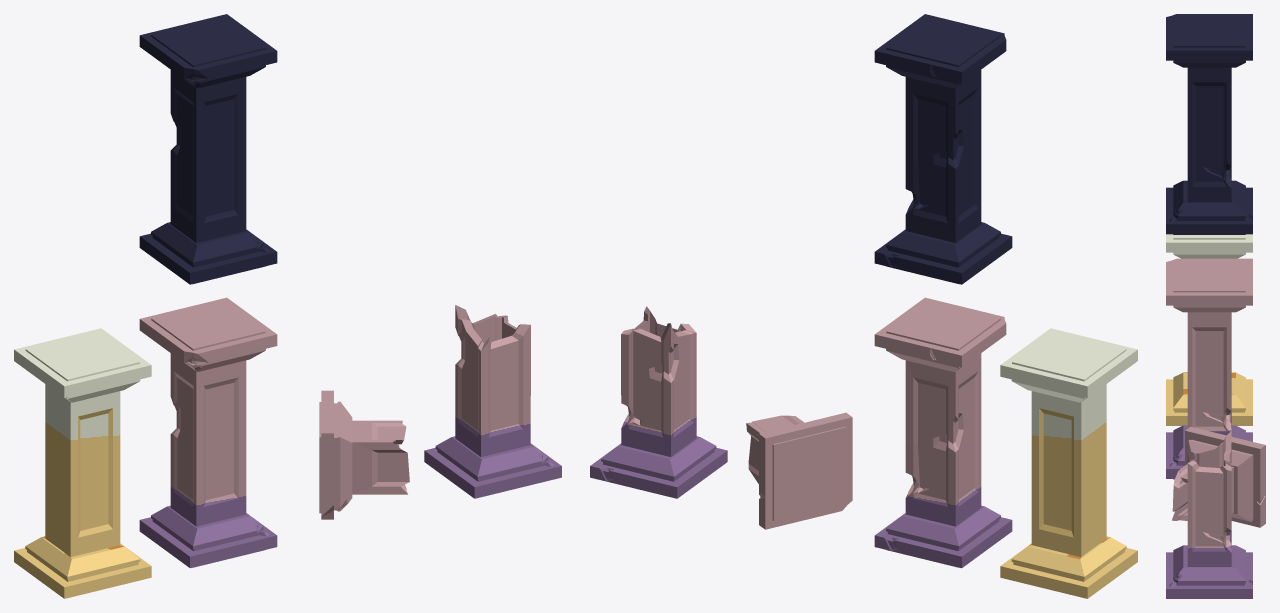
Rendered from piliers_set_01_texture.fbx.
3 renders of one model, left to right at view 1: azimuth 30°, elevation 25°; view 2: azimuth 150°, elevation 25°; view 3: azimuth 270°, elevation 25°, orthographic. The views are drawn at different scales.
Parts seen in each view (by area): view 1: polySurface17, polySurface22, pCube4, polySurface15, polySurface16; view 2: pCube4, polySurface17, polySurface22, polySurface15, polySurface16; view 3: polySurface22, polySurface17, polySurface15, polySurface16, pCube4.
Boxes of the visible parts, box(x1,y1,x2,y2) form: polySurface17: box(139, 297, 277, 568); polySurface22: box(139, 14, 277, 284); pCube4: box(14, 328, 151, 598); polySurface15: box(424, 305, 561, 498); polySurface16: box(319, 390, 409, 519); pCube4: box(1000, 328, 1137, 598); polySurface17: box(874, 297, 1012, 568); polySurface22: box(874, 14, 1012, 284); polySurface15: box(590, 306, 727, 498); polySurface16: box(746, 412, 852, 529); polySurface22: box(1166, 14, 1252, 234); polySurface17: box(1166, 258, 1252, 479); polySurface15: box(1166, 431, 1252, 598); polySurface16: box(1172, 426, 1265, 527); pCube4: box(1166, 234, 1252, 425).
Bounding box in the file's own units: 22.31 × 21.52 × 4.49.
Materials: 2 (2 with a texture image).
